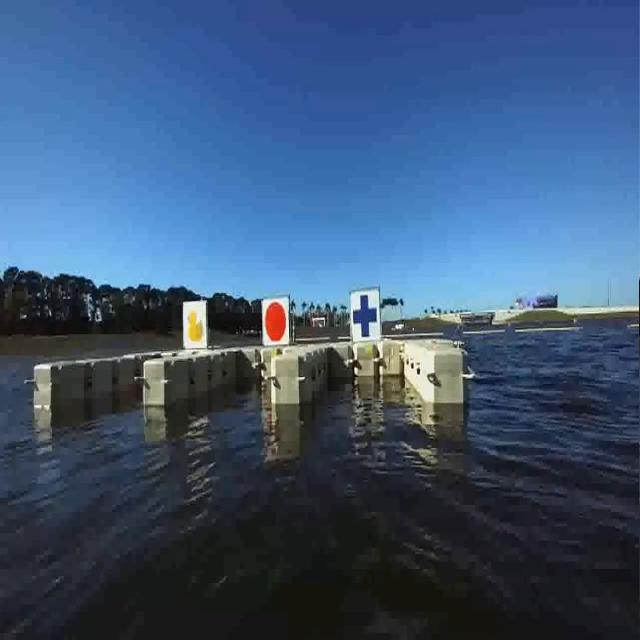blue-cross: (350, 289, 382, 346)
red-dot: (262, 291, 290, 347)
yellow-duck: (183, 301, 207, 352)
